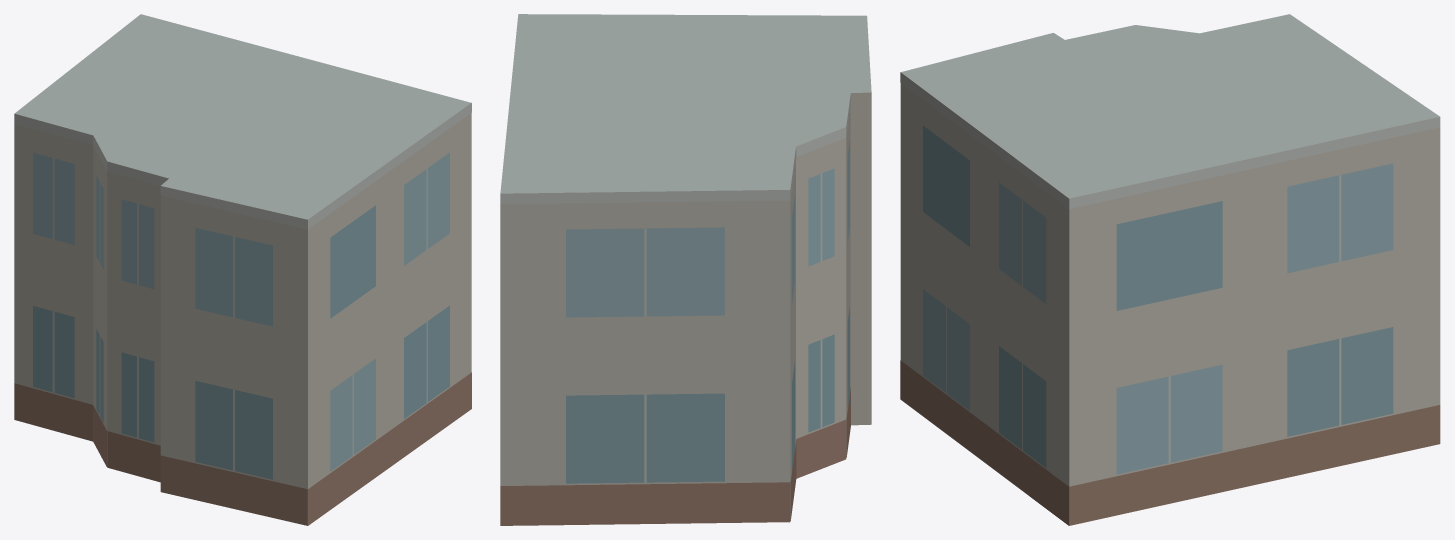
File: survey-upis-32619485.glb
3 renders of one model, left to right at view 1: azimuth 30°, elevation 25°; view 2: azimuth 150°, elevation 25°; view 3: azimuth 270°, elevation 25°, orthographic. The views are drawn at different scales.
Visible parts, largest first — view 1: survey-upis-32619485.tmp; view 2: survey-upis-32619485.tmp; view 3: survey-upis-32619485.tmp.
Part boxes in pixels (x1,y1,x2,y2): survey-upis-32619485.tmp: (14,14,471,525); survey-upis-32619485.tmp: (500,14,871,525); survey-upis-32619485.tmp: (900,14,1440,525).
Bounding box in the file's own units: 9.21 × 7.6 × 11.37.
